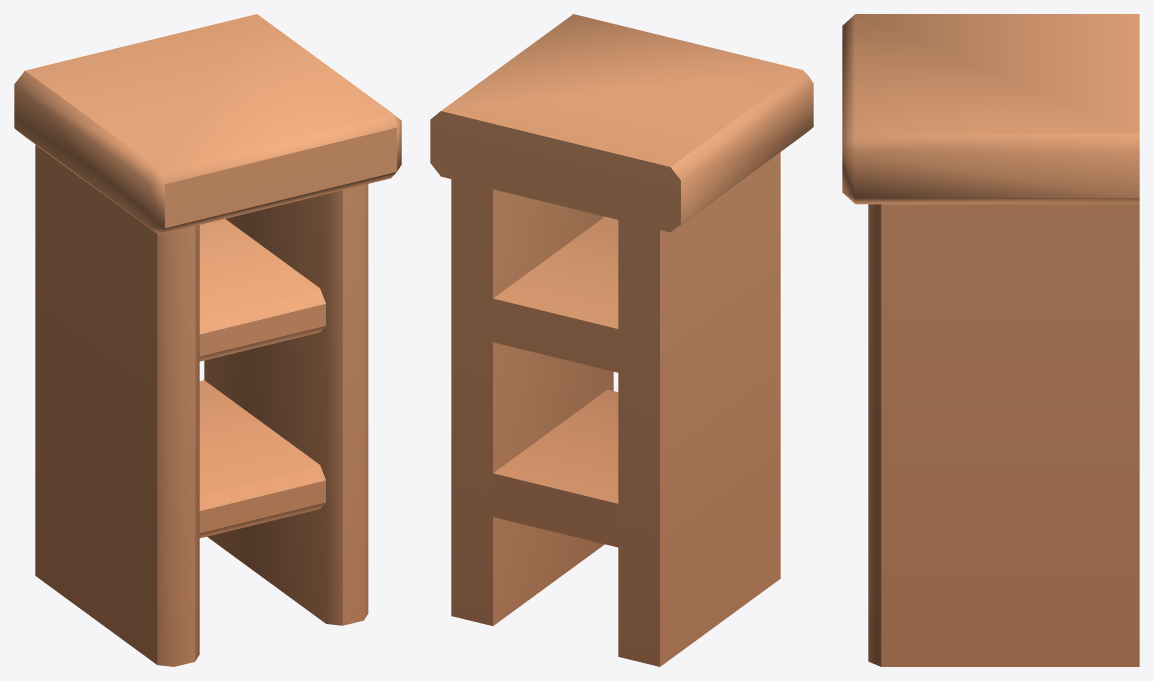
Rendered from countertop-closet-a-small.glb.
3 views of the same model, side by side, from view 1: azimuth 30°, elevation 25°; view 2: azimuth 150°, elevation 25°; view 3: azimuth 270°, elevation 25° (orthographic). The views are drawn at different scales.
Visible parts, largest first — view 1: countertop_closet_A_small; view 2: countertop_closet_A_small; view 3: countertop_closet_A_small.
Part boxes in pixels (left/top/right/bottom): countertop_closet_A_small: left=14, top=14, right=401, bottom=666; countertop_closet_A_small: left=430, top=14, right=813, bottom=666; countertop_closet_A_small: left=842, top=14, right=1139, bottom=666.
Size of the model in its own units: 1.2 by 2.3 by 1.15.
1 material, 1 textured.
